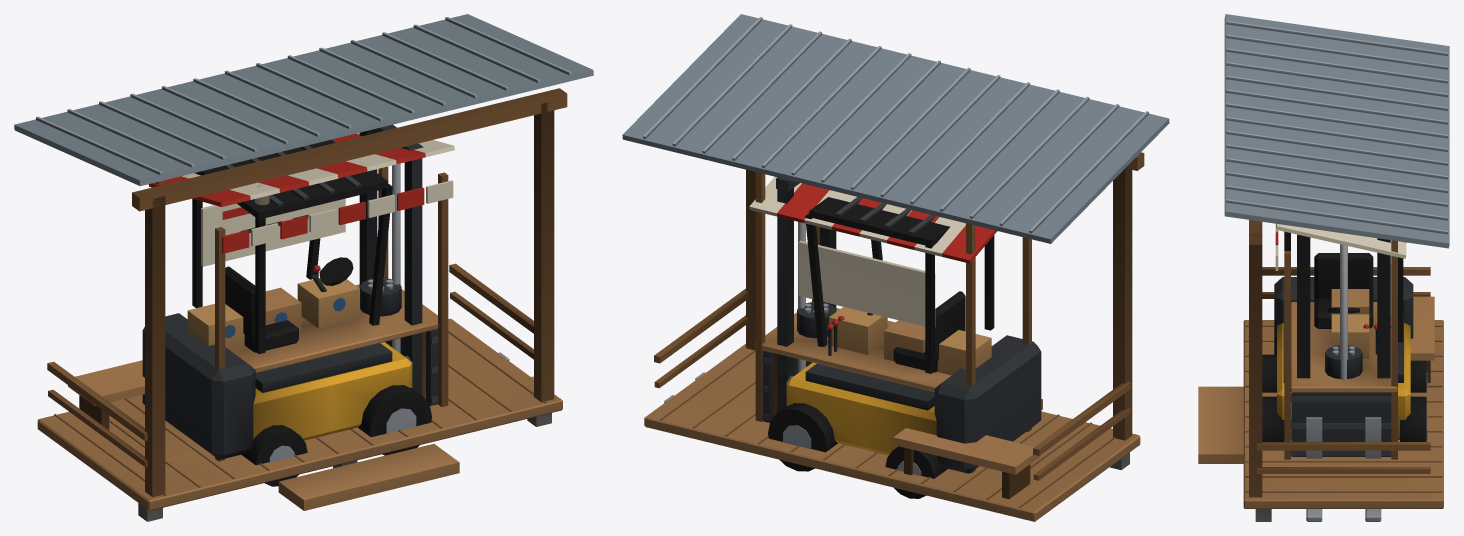
Rendered from level4.glb.
The picture shows the model from 3 angles, left to right: view 1: azimuth 30°, elevation 25°; view 2: azimuth 150°, elevation 25°; view 3: azimuth 270°, elevation 25°; orthographic projection. The views are drawn at different scales.
Visible parts, largest first — view 1: l4_porch_mesh, l4_forklift_mesh, l4_stall_mesh, forks; view 2: l4_porch_mesh, l4_forklift_mesh, l4_stall_mesh, forks; view 3: l4_porch_mesh, l4_forklift_mesh, l4_stall_mesh, forks.
Boxes of the visible parts, x1,y1,x2,y2 form: l4_porch_mesh: (14, 14, 593, 521); l4_forklift_mesh: (142, 124, 431, 486); l4_stall_mesh: (148, 133, 454, 461); forks: (385, 329, 533, 405); l4_porch_mesh: (622, 14, 1169, 521); l4_forklift_mesh: (768, 177, 1041, 498); l4_stall_mesh: (749, 172, 1031, 473); forks: (664, 350, 812, 422); l4_porch_mesh: (1198, 14, 1449, 521); l4_forklift_mesh: (1262, 231, 1427, 441); l4_stall_mesh: (1275, 223, 1406, 459); forks: (1291, 392, 1391, 521).
Size of the model in its own units: 3.5 by 2.67 by 1.88.
